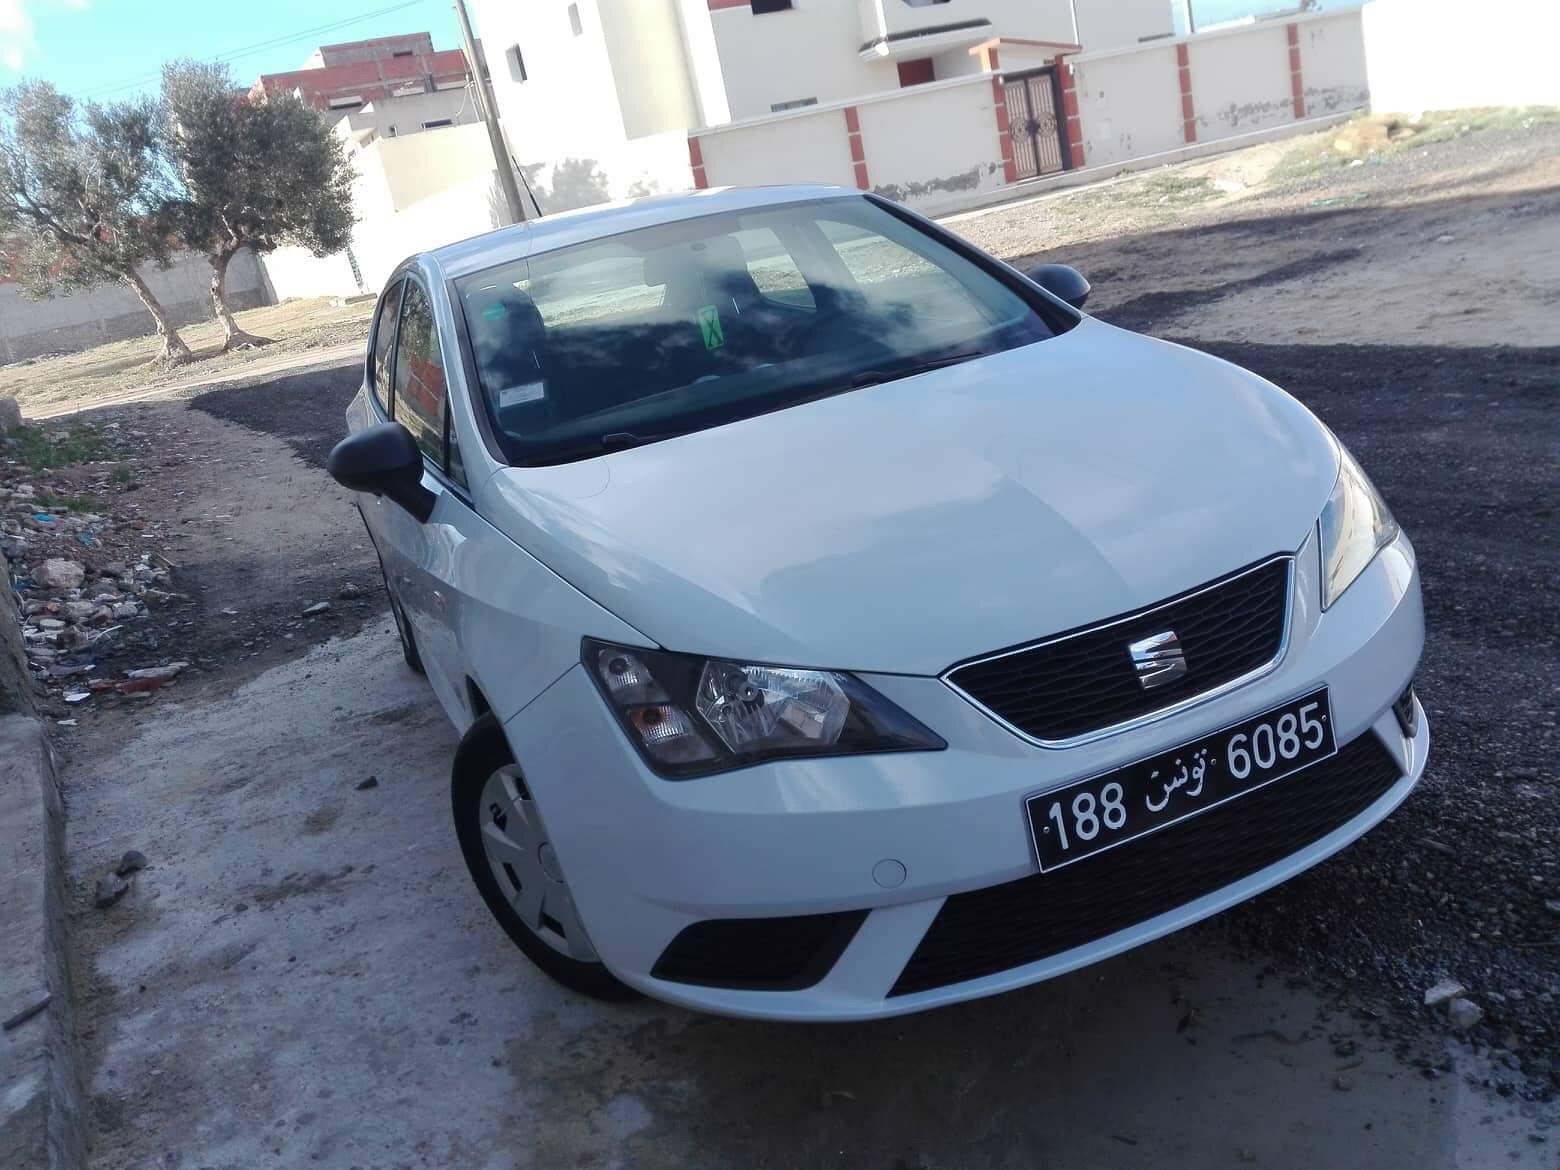LP: (1018, 683, 1337, 864)
